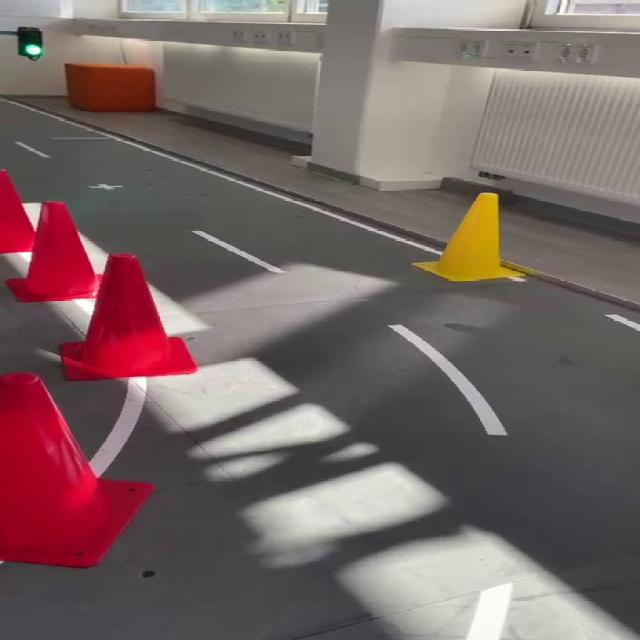Cone-red: (0, 374, 153, 567), (61, 255, 196, 379), (7, 202, 99, 301), (0, 170, 34, 253)
Cones-yellow: (412, 192, 528, 282)
